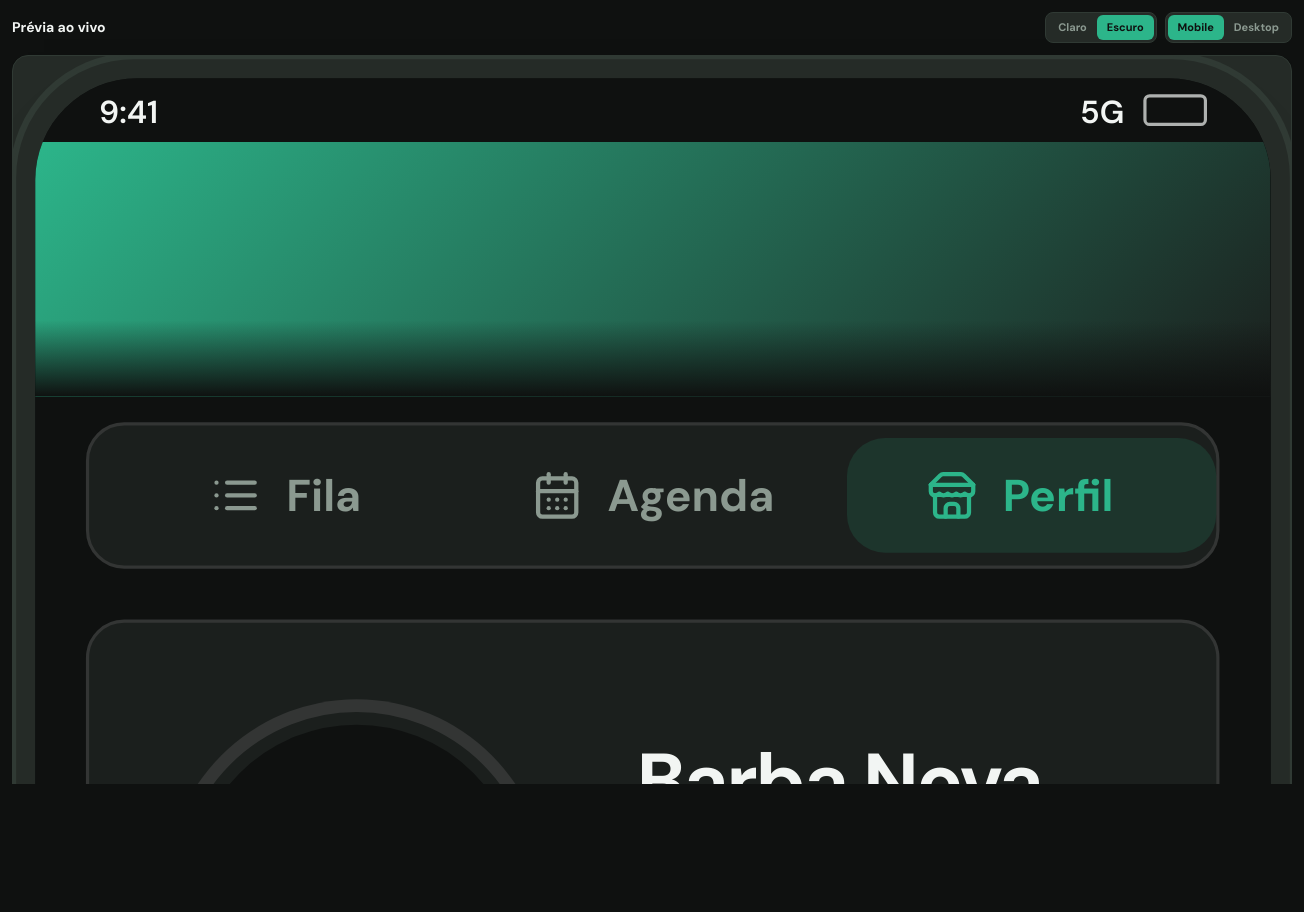
ThemePreview › alterna entre mobile e desktop com testids dos mockups
Click the button with test id "preview-device-desktop". click: (1256, 27)
box: x1=1224 y1=15 x2=1289 y2=40
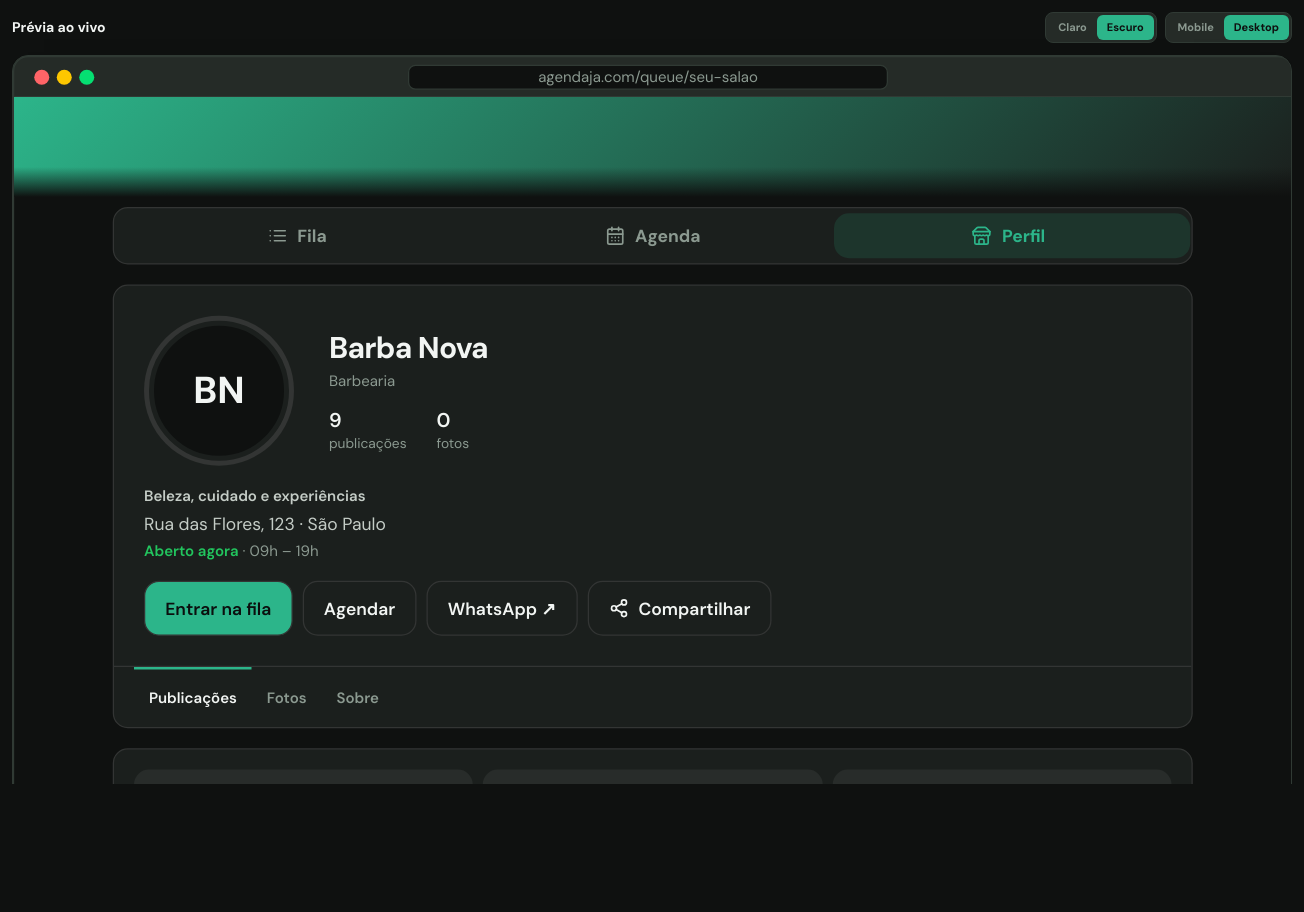
Expected: the text "agendaja.com/queue/seu-salao" is shown, x1=408 y1=64 x2=888 y2=89
